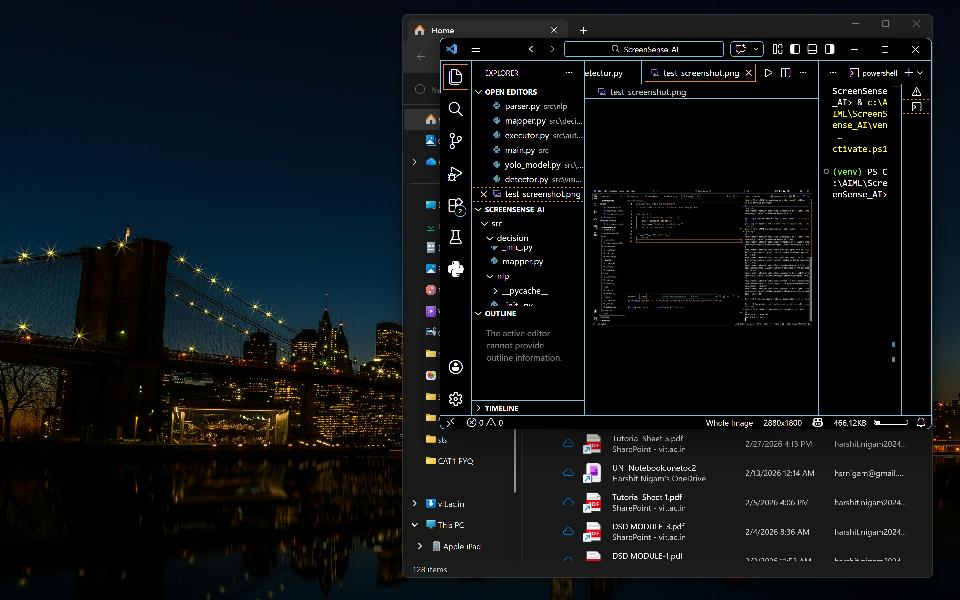close_button: (907, 16, 926, 36), (908, 41, 928, 57)
maximize_button: (877, 16, 894, 33), (879, 40, 895, 57)
minimize_button: (847, 15, 863, 35), (848, 40, 863, 58)
